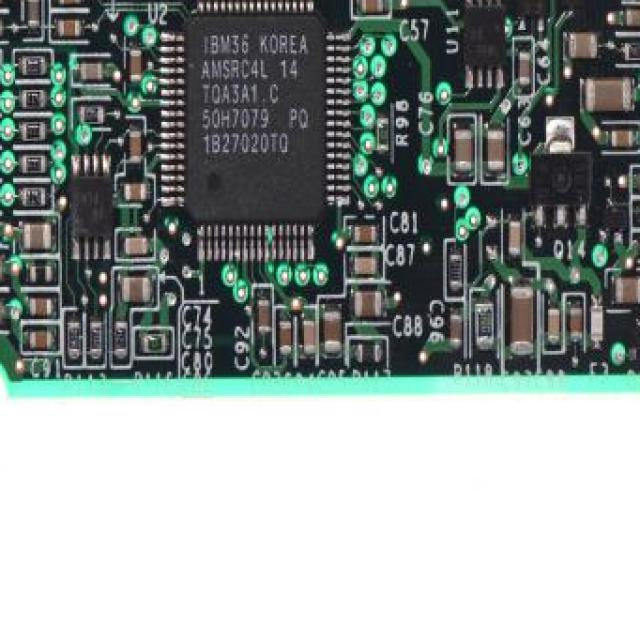IC: (180, 7, 331, 230), (70, 173, 116, 242), (464, 4, 508, 72), (514, 0, 550, 23)
capacitor: (584, 73, 633, 114), (509, 284, 535, 359), (353, 289, 386, 321), (454, 128, 475, 177), (22, 222, 54, 254), (122, 276, 154, 306), (568, 30, 600, 59), (323, 310, 343, 356), (486, 128, 506, 174), (613, 274, 640, 306), (28, 328, 55, 352), (128, 45, 144, 85), (278, 319, 294, 358), (353, 255, 379, 279), (448, 312, 464, 351), (28, 297, 55, 320), (302, 319, 317, 360), (122, 182, 147, 206), (257, 296, 272, 336), (507, 218, 522, 258), (353, 223, 379, 246), (546, 306, 560, 347), (79, 62, 105, 84), (58, 17, 85, 38), (124, 235, 150, 256), (568, 306, 582, 345), (130, 128, 144, 166), (610, 130, 635, 151), (518, 51, 532, 88), (26, 0, 40, 30), (358, 0, 385, 15), (625, 8, 640, 30), (56, 0, 83, 8)
diode: (556, 0, 588, 13)
resistor: (473, 300, 495, 348), (356, 342, 383, 366), (114, 319, 130, 359), (448, 251, 464, 291), (79, 103, 105, 127), (143, 332, 168, 356), (28, 265, 55, 287), (88, 321, 103, 359), (21, 54, 46, 76), (21, 88, 46, 110), (21, 120, 46, 142), (68, 319, 82, 358), (376, 116, 390, 154), (21, 186, 46, 207), (21, 154, 46, 175), (623, 41, 640, 62), (0, 252, 2, 284), (0, 296, 2, 328), (0, 17, 2, 41), (638, 203, 640, 225), (638, 171, 640, 191), (0, 0, 2, 8)
transistor: (527, 150, 593, 212), (597, 206, 627, 232)
